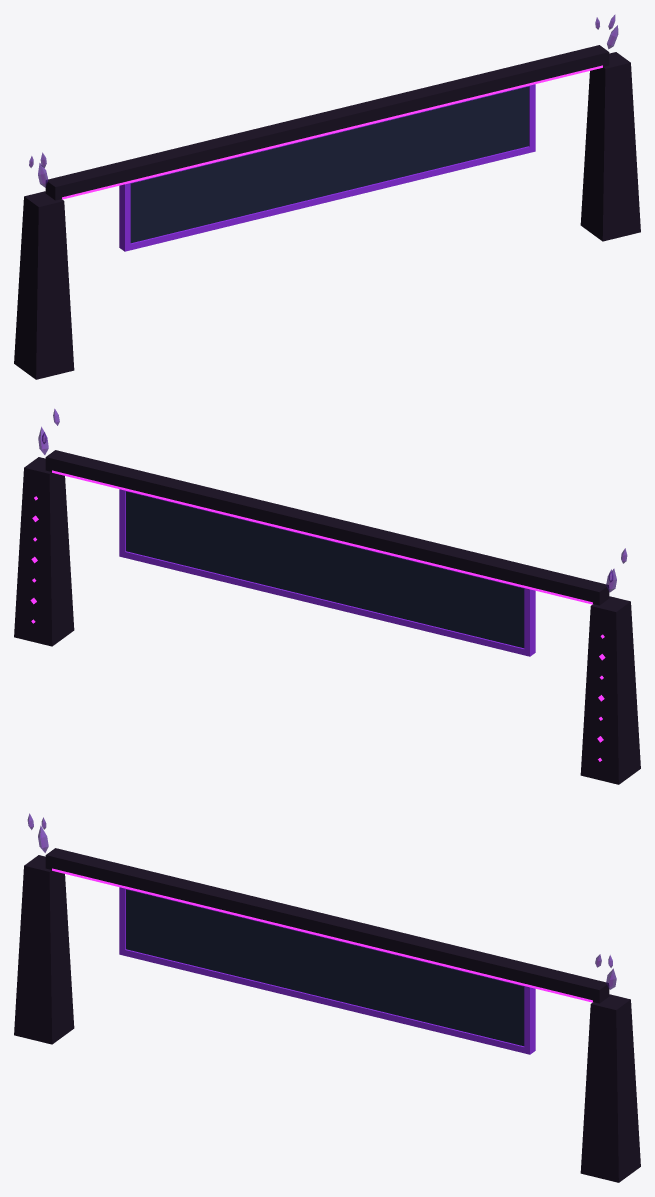
The model's file is ZoneArch_Void.glb.
The picture shows the model from 3 angles, top to bottom: view 1: azimuth 30°, elevation 25°; view 2: azimuth 150°, elevation 25°; view 3: azimuth 330°, elevation 25°; orthographic projection.
Parts seen in each view (by area): view 1: Obelisks, SignPanel, SignFrame, Runes, Shards; view 2: Obelisks, SignPanel, SignFrame, Runes, Shards; view 3: Obelisks, SignPanel, SignFrame, Runes, Shards.
Boxes of the visible parts, left/top/right/bottom form: Obelisks: left=14, top=45, right=640, bottom=379; SignPanel: left=130, top=86, right=528, bottom=243; SignFrame: left=119, top=84, right=535, bottom=251; Runes: left=62, top=65, right=602, bottom=199; Shards: left=29, top=14, right=618, bottom=187; Obelisks: left=14, top=450, right=640, bottom=784; SignPanel: left=126, top=491, right=524, bottom=648; SignFrame: left=119, top=489, right=535, bottom=656; Runes: left=30, top=470, right=605, bottom=761; Shards: left=38, top=408, right=627, bottom=592; Obelisks: left=14, top=848, right=640, bottom=1182; SignPanel: left=126, top=889, right=524, bottom=1046; SignFrame: left=119, top=887, right=535, bottom=1054; Runes: left=52, top=868, right=592, bottom=1002; Shards: left=27, top=813, right=616, bottom=989.
Size of the model in its own units: 93.94 by 32.88 by 5.94.
